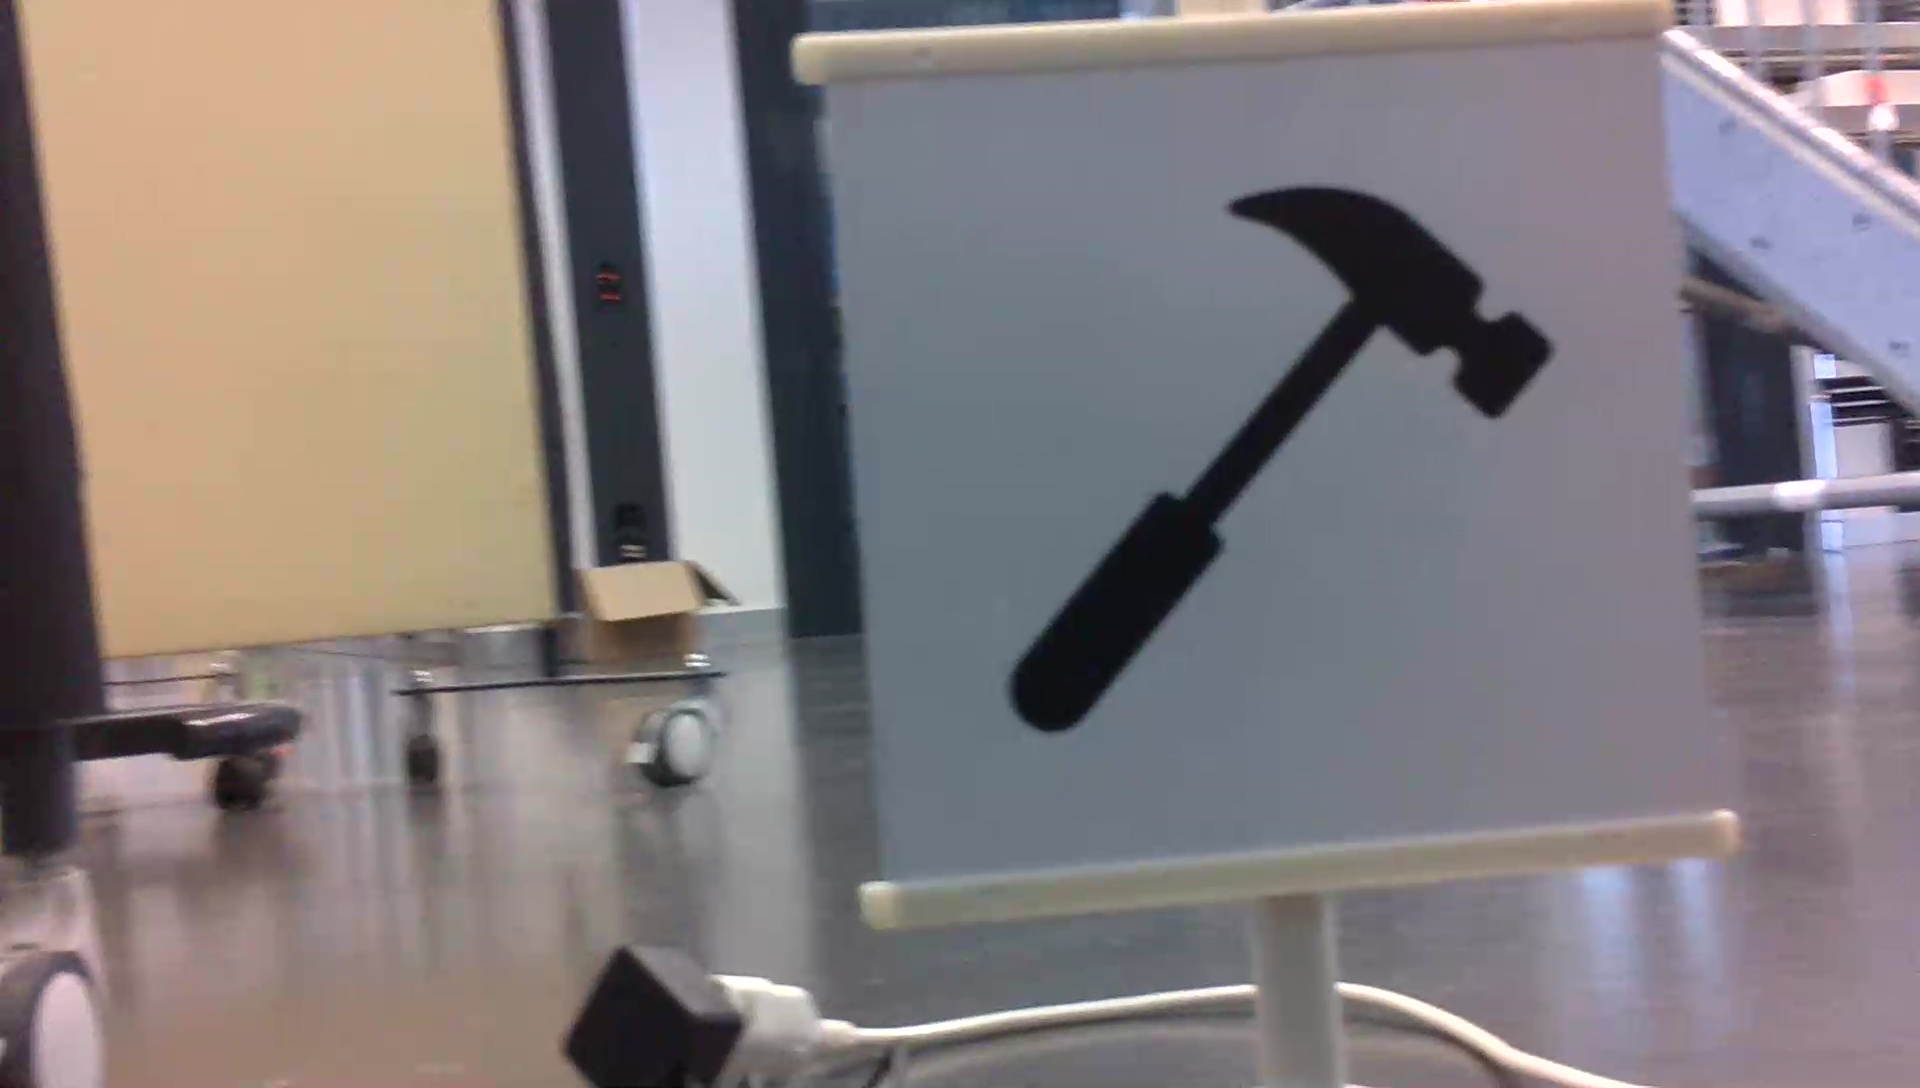hammer: (993, 175, 1565, 746)
